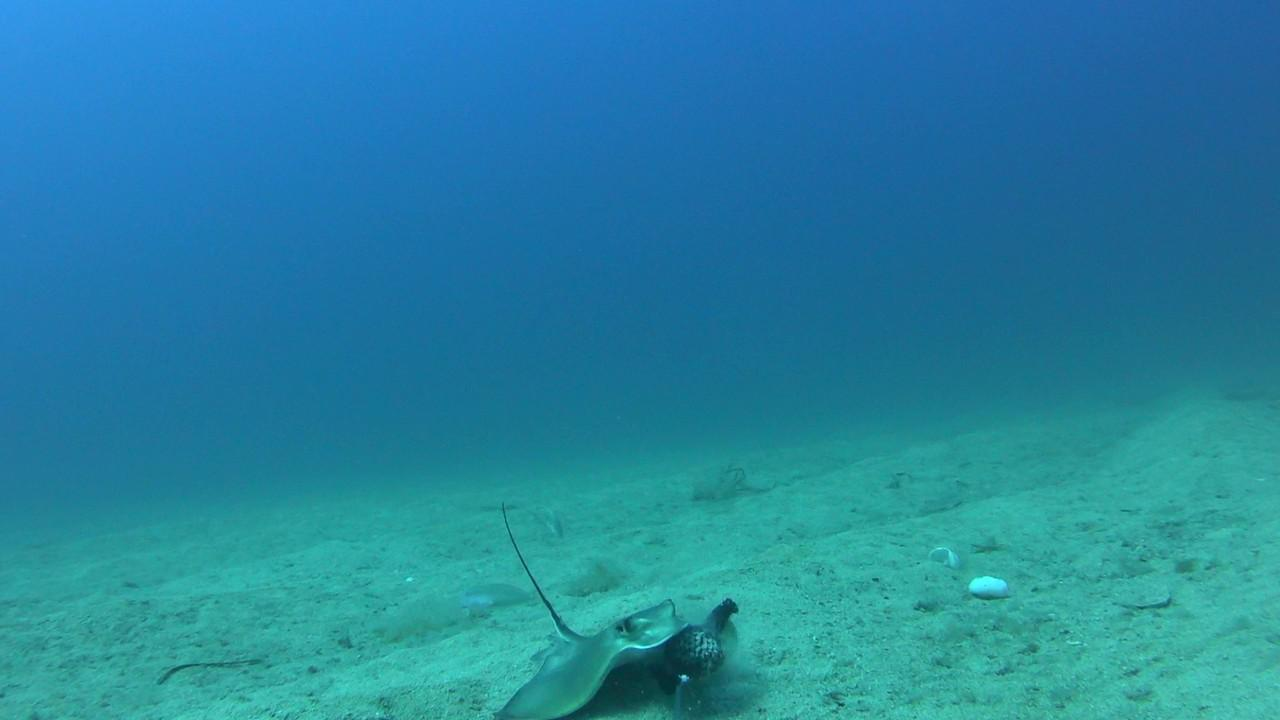myliobatis: (465, 492, 741, 719)
